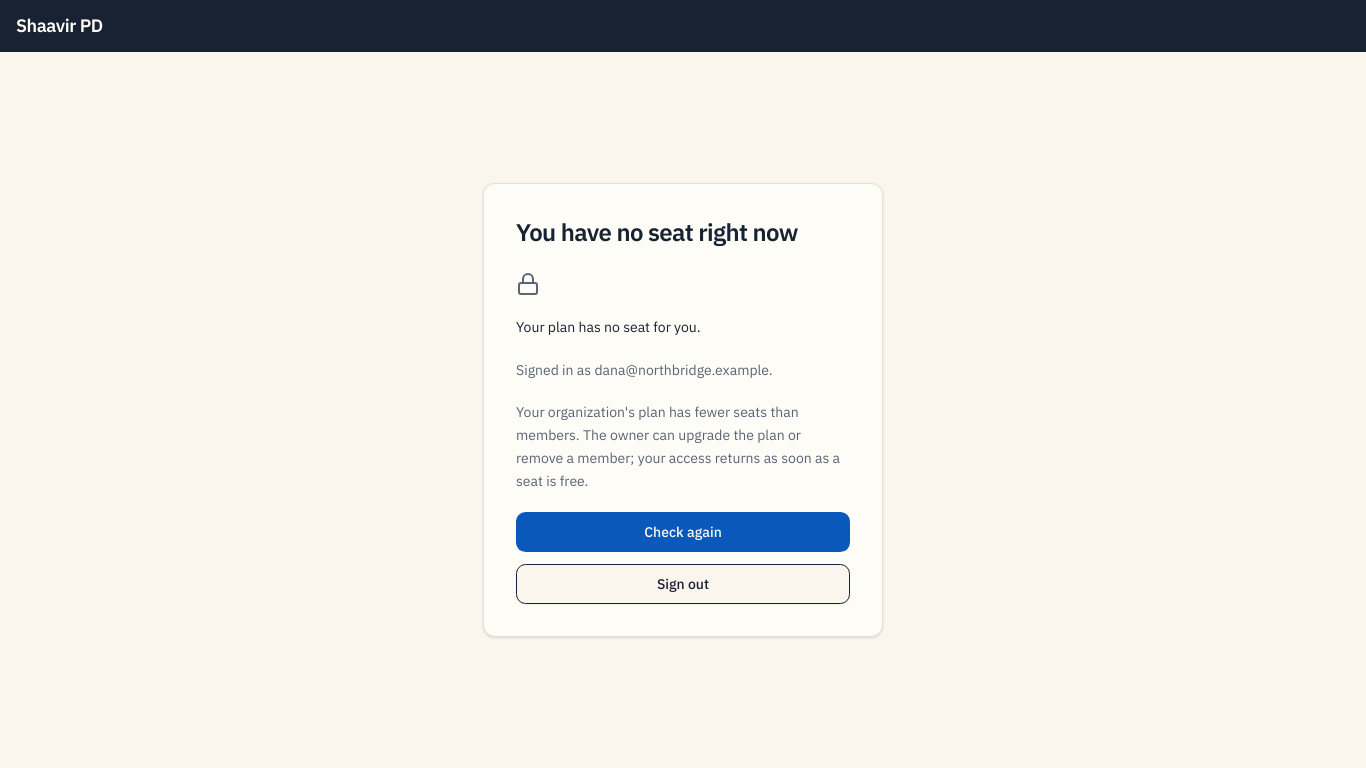
Test: ShellContainer seat-locked member › Check again reloads the organization and returns to the app when a seat is free
The image size is (1366, 768).
Click the button "Check again" at (683, 532), box [516,512,850,552]
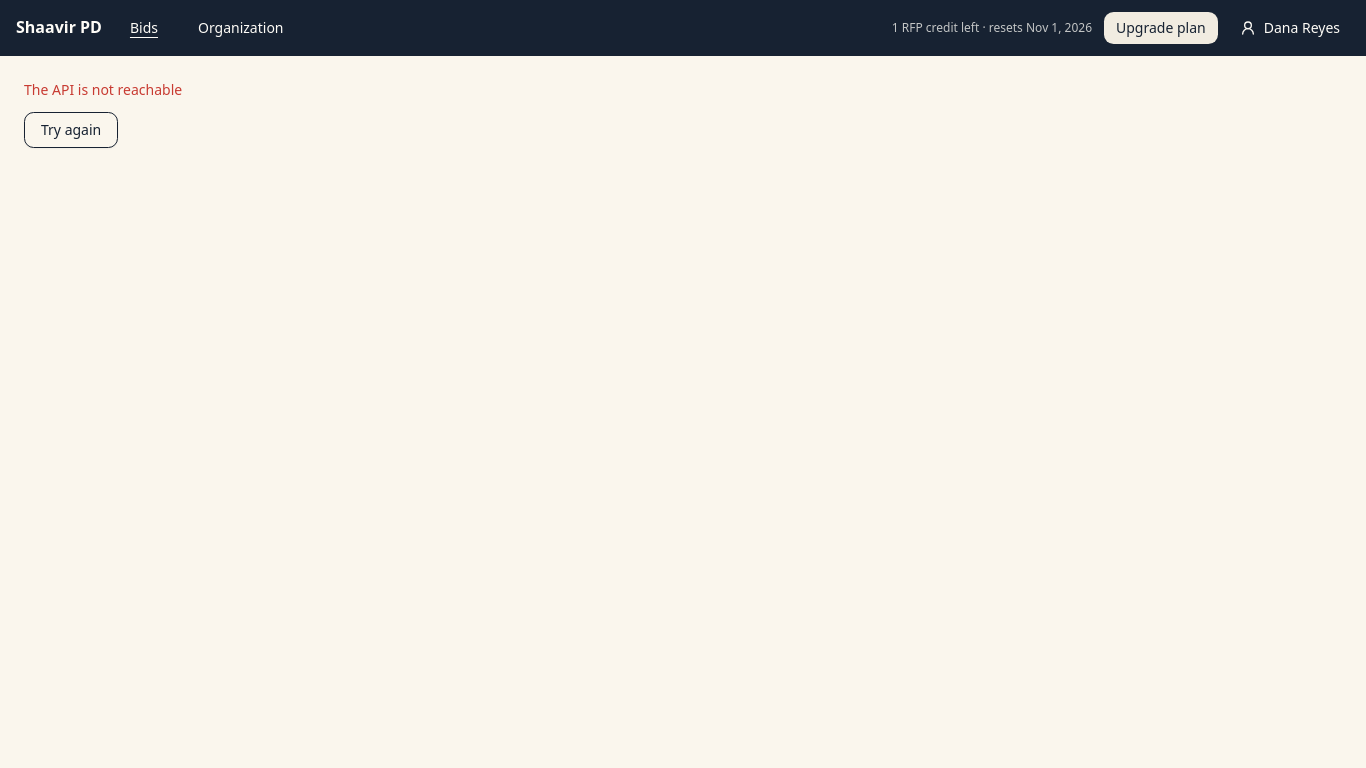
Now the button with aria-label "Account menu for Dana Reyes" is shown, box [1230,12,1350,44]
